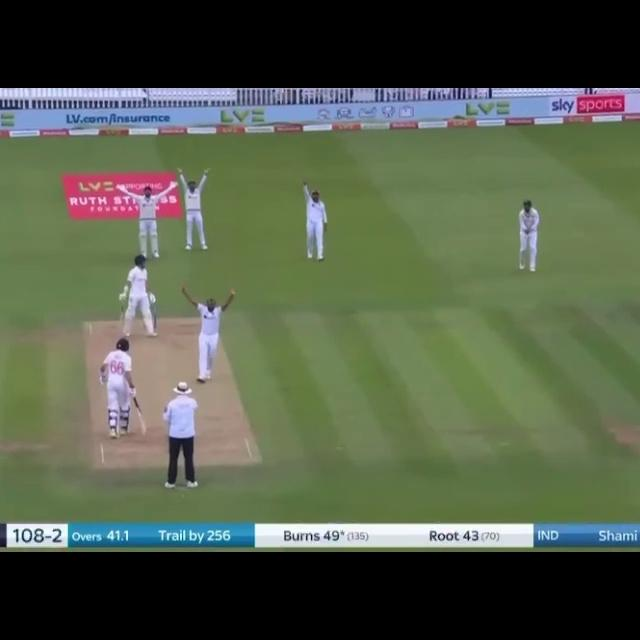umpire: (149, 375, 214, 491)
